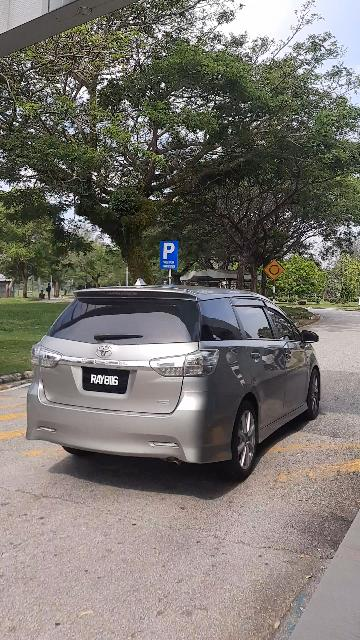License_Plate: (81, 366, 132, 397)
car: (26, 278, 332, 484)
